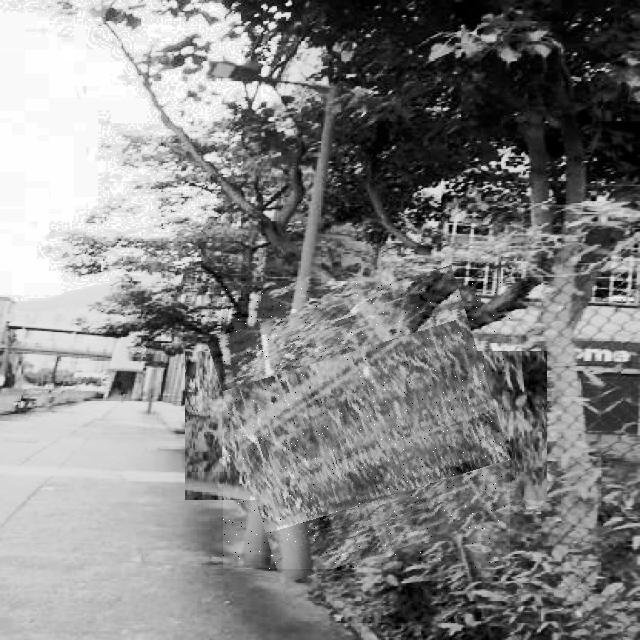anomaly-fence: (223, 281, 510, 569)
